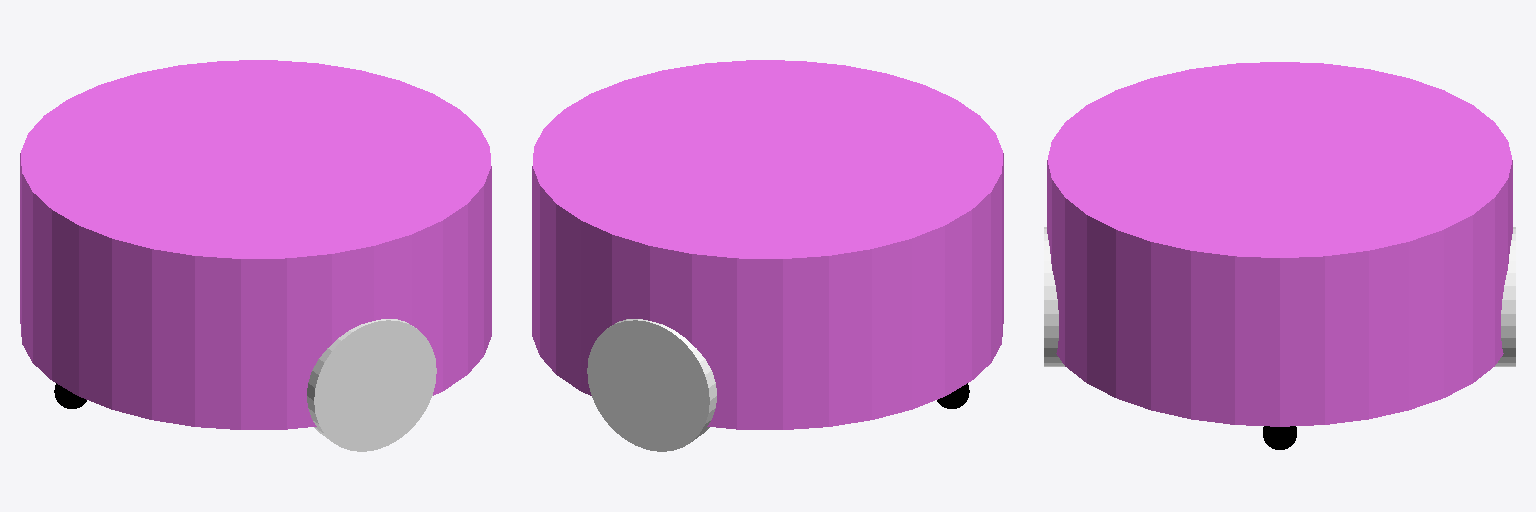
URDF robot description (mbot):
<?xml version="1.0" ?>
<robot name="mbot">

    <link name="base_link">
        <visual>
            <origin xyz=" 0 0 0" rpy="0 0 0" />
            <geometry>
                <cylinder length="0.16" radius="0.20"/>
            </geometry>
            <material name="yellow">
                <color rgba="1 0.5 1 1"/>
            </material>
        </visual>
    </link>

<joint name="left_wheel_joint" type="continuous">
	<origin xyz="0 0.19 -0.05" rpy="0 0 0"/>
	<parent link="base_link"/>
	<child link="left_wheel_link"/>
	<axis xyz="0 1 0"/>
</joint>
      <link name="left_wheel_link">
        <visual>
            <origin xyz=" 0 0 0" rpy="1.5707 0 0" />
            <geometry>
                <cylinder length="0.025" radius="0.06"/>
            </geometry>
            <material name="white">
                <color rgba="1 1 1 0.9"/>
            </material>
        </visual>
    </link>
<joint name="right_wheel_joint" type="continuous">
	<origin xyz="0 -0.19 -0.05" rpy="0 0 0"/>
	<parent link="base_link"/>
	<child link="right_wheel_link"/>
	<axis xyz="0 1 0"/>
</joint>
      <link name="right_wheel_link">
        <visual>
            <origin xyz=" 0 0 0" rpy="1.5707 0 0" />
            <geometry>
                <cylinder length="0.025" radius="0.06"/>
            </geometry>
            <material name="white">
                <color rgba="1 1 1 0.9"/>
            </material>
        </visual>
    </link>
<joint name="back_caster_joint" type="continuous">
	<origin xyz="-0.18 0 -0.095" rpy="0 0 0"/>
	<parent link="base_link"/>
	<child link="back_caster_link"/>
	<axis xyz="0 1 0"/>
</joint>
      <link name="back_caster_link">
        <visual>
            <origin xyz=" 0 0 0" rpy="1.5707 0 0" />
            <geometry>
                <sphere  radius="0.015"/>
            </geometry>
            <material name="black">
                <color rgba="0 0 0 0.9"/>
            </material>
        </visual>
    </link>
<joint name="front_caster_joint" type="continuous">
	<origin xyz="0.18 0 -0.095" rpy="0 0 0"/>
	<parent link="base_link"/>
	<child link="front_caster_link"/>
	<axis xyz="0 1 0"/>
</joint>
      <link name="front_caster_link">
        <visual>
            <origin xyz=" 0 0 0" rpy="1.5707 0 0" />
            <geometry>
                <sphere  radius="0.015"/>
            </geometry>
            <material name="black">
                <color rgba="0 0 0 0.9"/>
            </material>
        </visual>
    </link>




</robot>

--- What the picture shows (computed from the rendered views, not written in the file) ---
The picture shows the robot from 3 angles, left to right: view 1: azimuth 30°, elevation 25°; view 2: azimuth 150°, elevation 25°; view 3: azimuth 270°, elevation 25°; orthographic projection.
Model mbot with 5 links and 4 joints (4 continuous), rooted at base_link, posed every joint at zero.
Visible links, largest first — view 1: base_link, right_wheel_link; view 2: base_link, left_wheel_link; view 3: base_link, left_wheel_link, right_wheel_link, front_caster_link.
Link boxes in pixels (left/top/right/bottom): base_link: left=20, top=60, right=491, bottom=429; right_wheel_link: left=307, top=319, right=436, bottom=451; base_link: left=532, top=60, right=1003, bottom=429; left_wheel_link: left=587, top=319, right=716, bottom=451; base_link: left=1047, top=62, right=1512, bottom=426; left_wheel_link: left=1495, top=227, right=1515, bottom=366; right_wheel_link: left=1044, top=227, right=1064, bottom=366; front_caster_link: left=1263, top=426, right=1296, bottom=449.
Bounding box of the posed robot: 0.4 × 0.405 × 0.19 m (x, y, z).
Geometry: primitives only (box / cylinder / sphere), no mesh files.